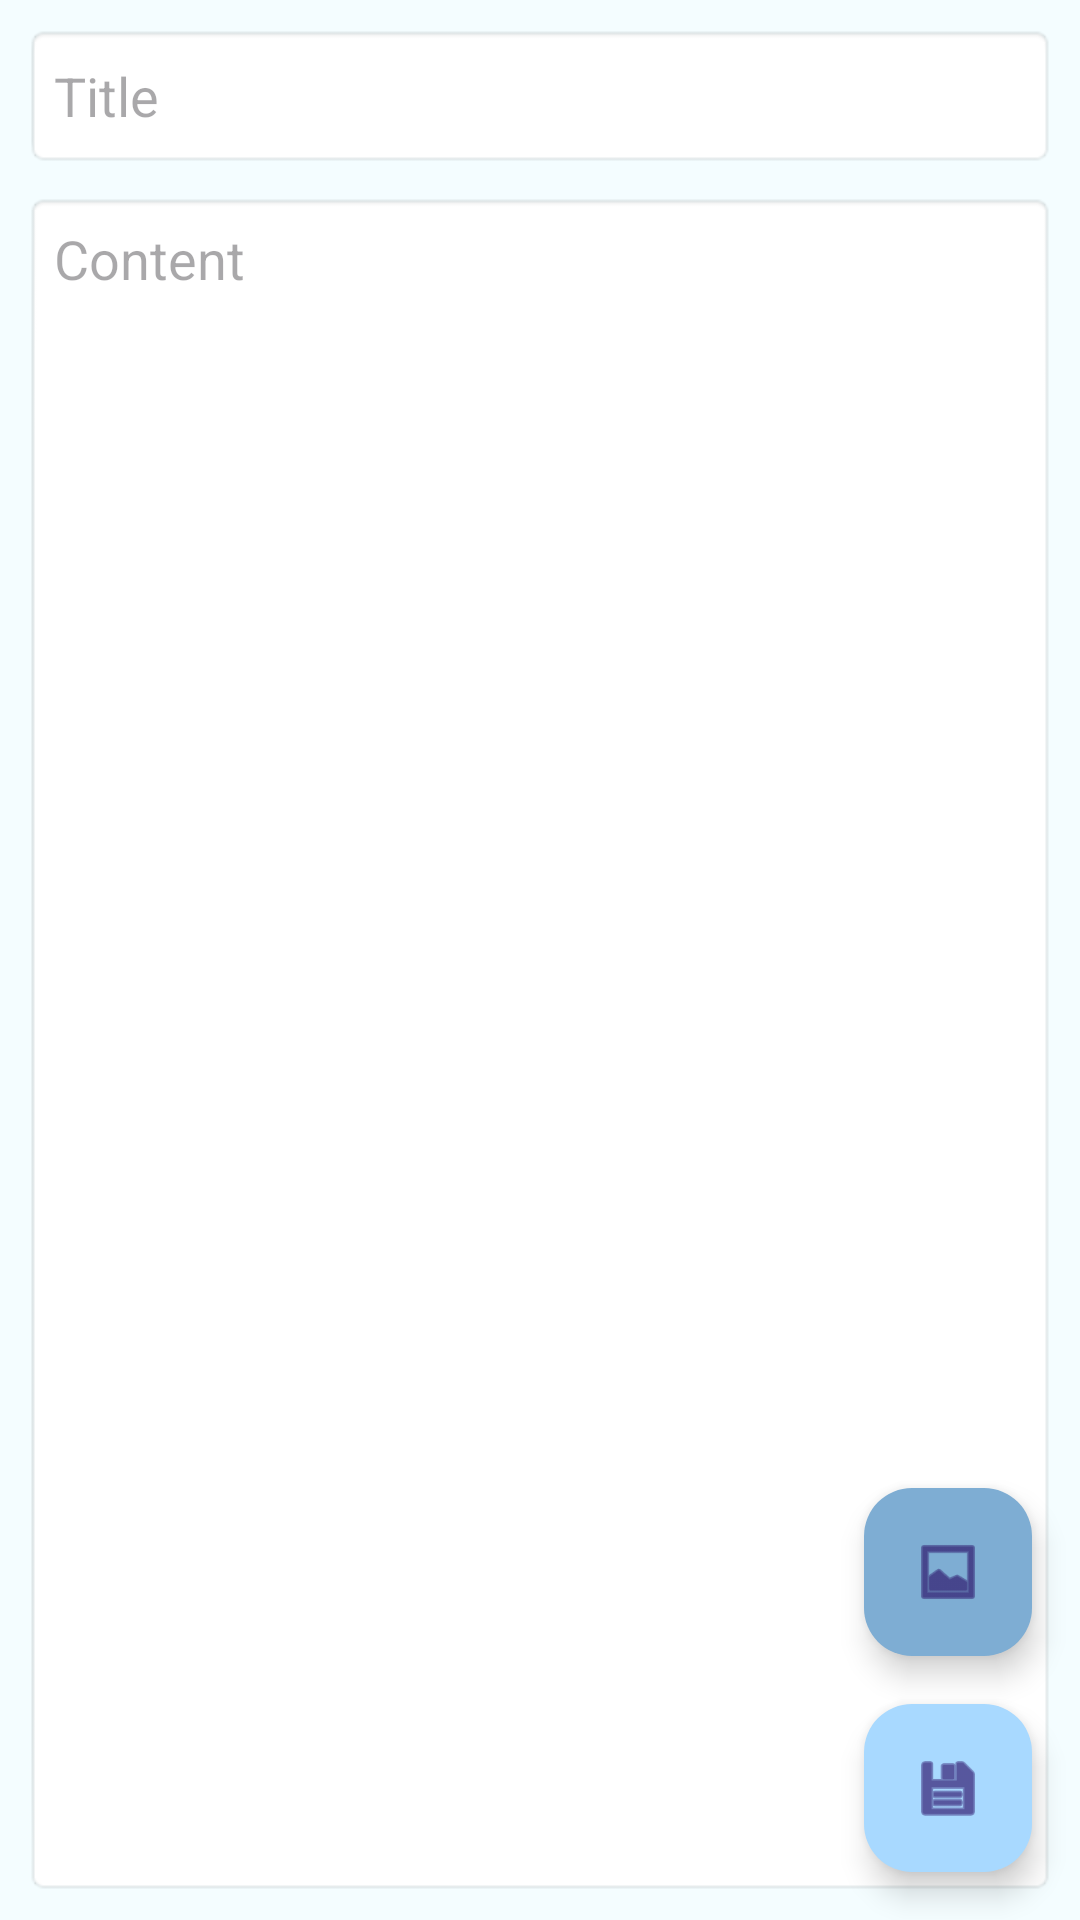

Named icons in this screenshot (1080 × 1920) and their bounding boxes, (x1, y1, x2, y2):
Add Image: (864, 1488, 1032, 1656)
Save button: (864, 1704, 1032, 1872)
